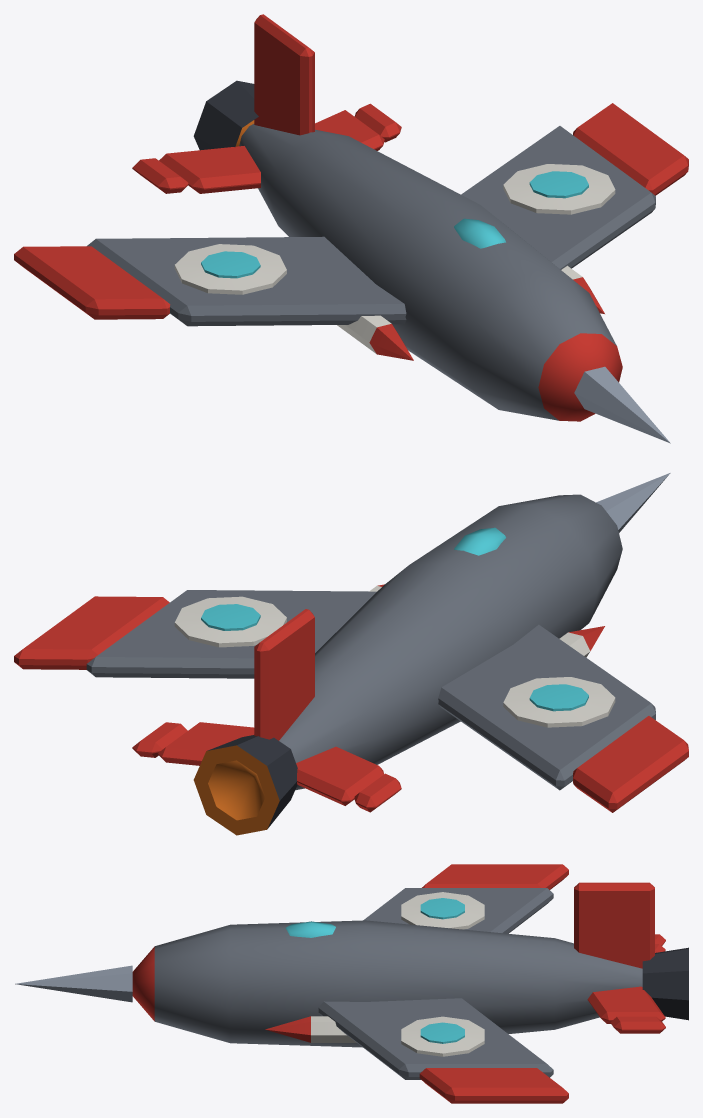
3 views of the same model, one above another, from view 1: azimuth 30°, elevation 25°; view 2: azimuth 150°, elevation 25°; view 3: azimuth 270°, elevation 25° (orthographic). The views are drawn at different scales.
Parts seen in each view (by area): view 1: as_0_base; view 2: as_0_base; view 3: as_0_base.
Boxes of the visible parts, x1,y1,x2,y2 form: as_0_base: (14, 14, 688, 443); as_0_base: (14, 473, 688, 835); as_0_base: (15, 864, 688, 1103).
Size of the model in its own units: 1.05 by 0.3391 by 1.31.
